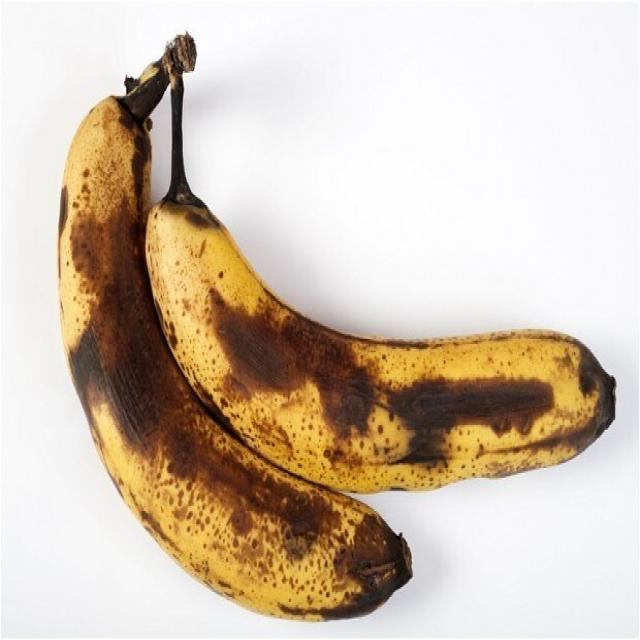Banana: (42, 87, 418, 621), (145, 192, 618, 487)
